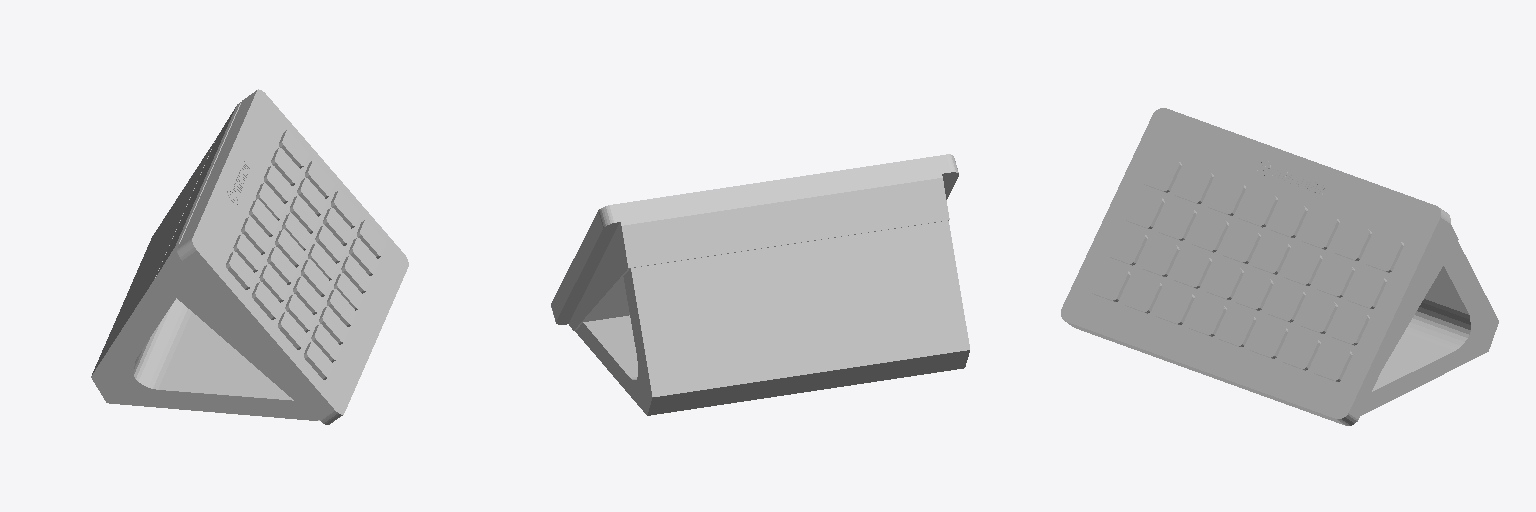
The model's file is decckk.obj.
3 views of the same model, side by side, from view 1: azimuth 30°, elevation 25°; view 2: azimuth 150°, elevation 25°; view 3: azimuth 270°, elevation 25° (orthographic).
Visible parts, largest first — view 1: mesh_id313; view 2: mesh_id313; view 3: mesh_id313.
Part boxes in pixels (x1,y1,x2,y2): mesh_id313: (91,89,408,424); mesh_id313: (551,154,969,415); mesh_id313: (1061,108,1498,425).
Size of the model in its own units: 0.787 by 0.3643 by 0.8131.